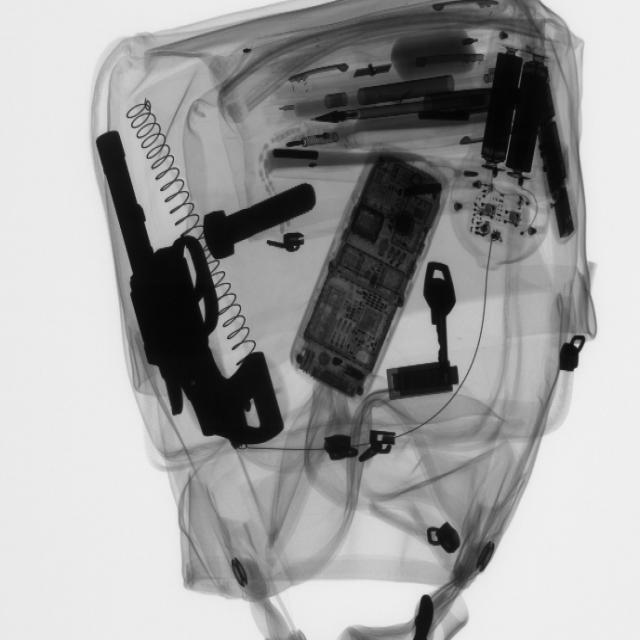GUN: (98, 120, 277, 448)
